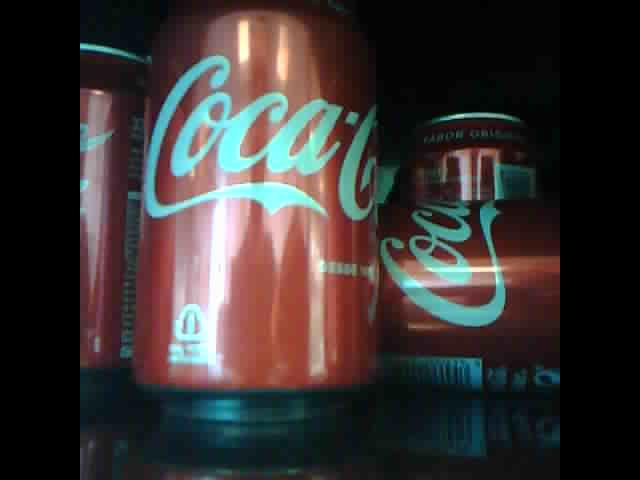coca cola: (138, 1, 381, 416), (375, 193, 559, 346), (78, 33, 139, 388), (416, 110, 541, 203)
